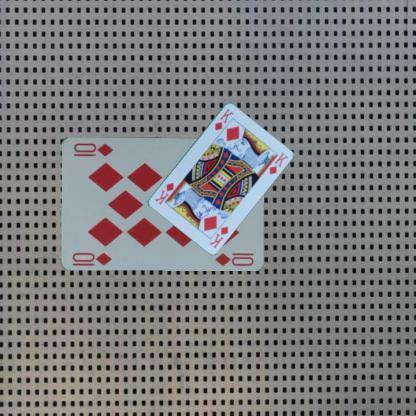10d: (70, 250, 113, 266)
Kd: (206, 223, 230, 250), (212, 106, 235, 131)
